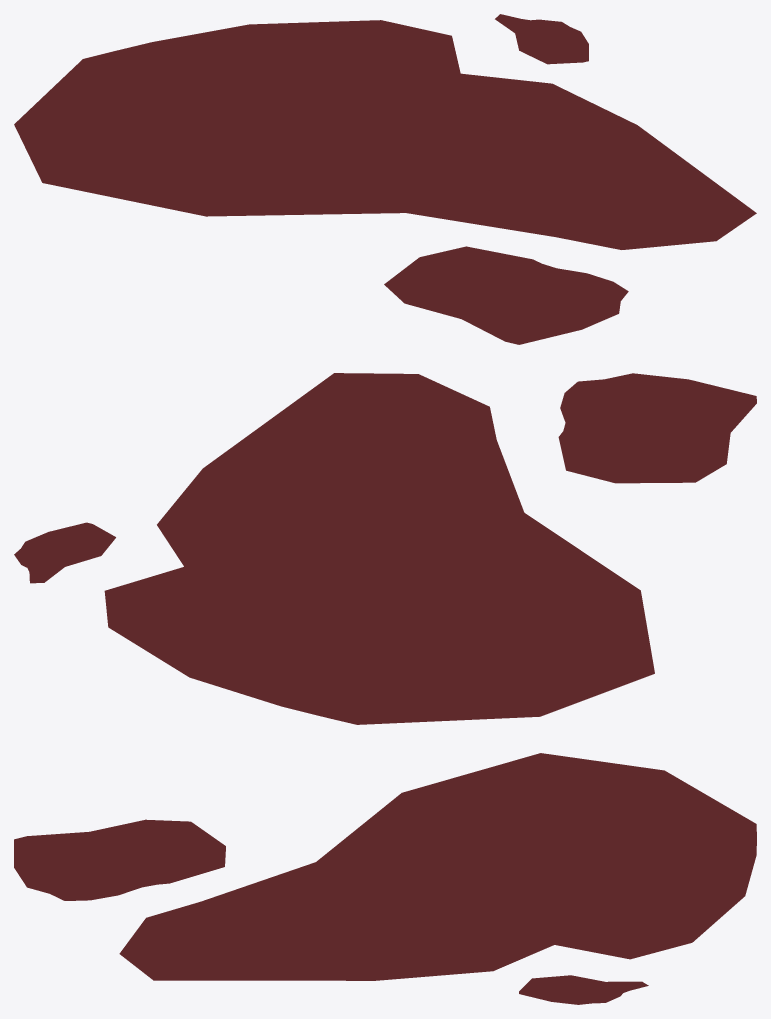
The model's file is quaternius-zombie-apocalypse-kit-march-blood-3.glb.
3 renders of one model, top to bottom at view 1: azimuth 30°, elevation 25°; view 2: azimuth 150°, elevation 25°; view 3: azimuth 270°, elevation 25°, orthographic. The views are drawn at different scales.
Parts seen in each view (by area): view 1: Blood_3; view 2: Blood_3; view 3: Blood_3.
Boxes of the visible parts, x1,y1,x2,y2 form: Blood_3: [14, 14, 756, 344]; Blood_3: [14, 373, 756, 724]; Blood_3: [14, 753, 756, 1004].
Bounding box in the file's own units: 1.72 × 0 × 2.14.
Materials: 1 (1 with a texture image).
